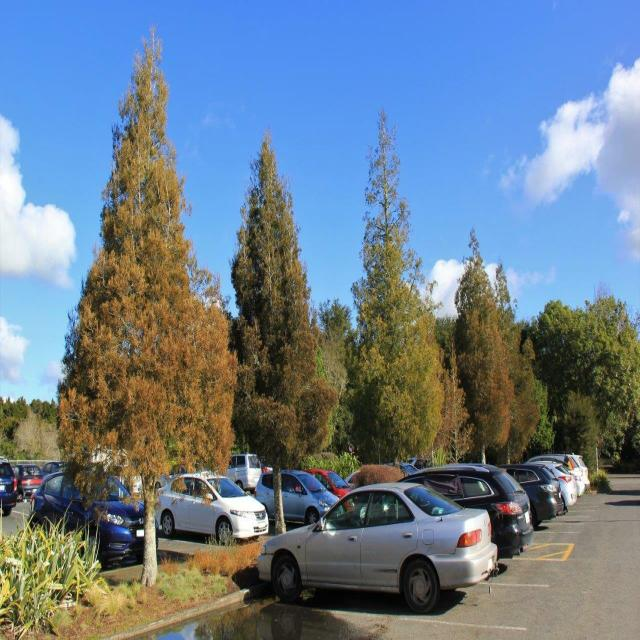Kahikatea: (88, 36, 212, 585), (233, 133, 317, 534), (353, 105, 438, 473), (453, 230, 508, 461)
